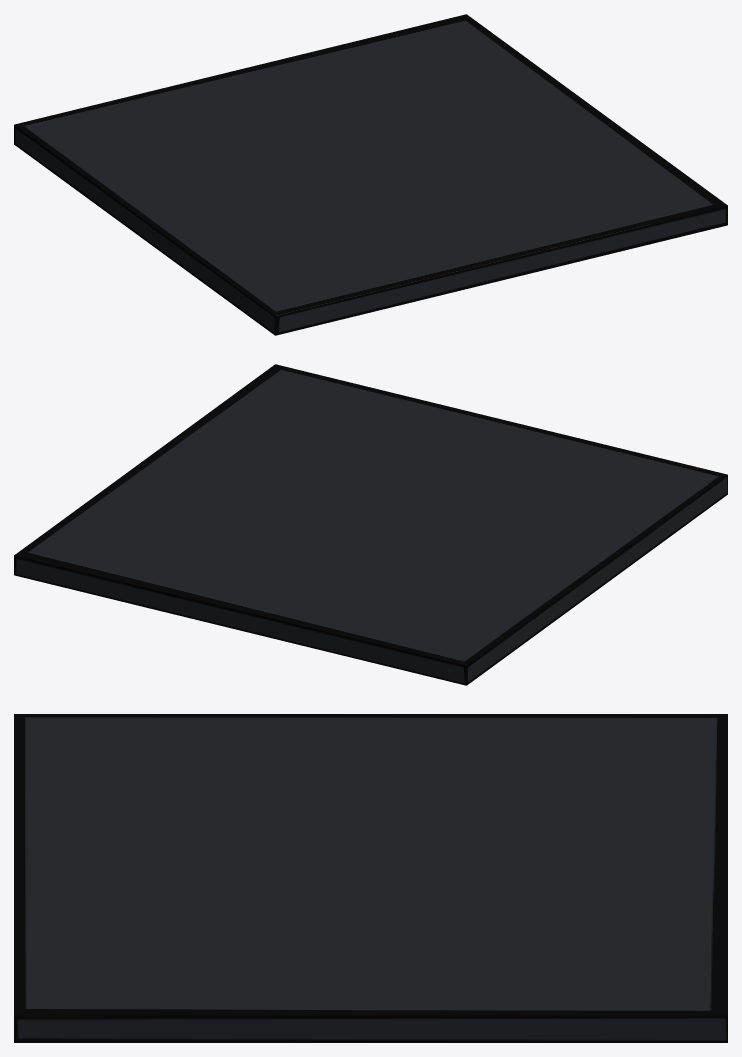
The model's file is spotlight.glb.
3 views of the same model, one above another, from view 1: azimuth 30°, elevation 25°; view 2: azimuth 150°, elevation 25°; view 3: azimuth 270°, elevation 25° (orthographic). The views are drawn at different scales.
Visible parts, largest first — view 1: Spotlight; view 2: Spotlight; view 3: Spotlight.
Part boxes in pixels (box(x1,y1,x2,y2)): Spotlight: box(14, 14, 727, 335); Spotlight: box(14, 364, 727, 685); Spotlight: box(14, 714, 727, 1042).
Bounding box in the file's own units: 0.2334 × 0.00979 × 0.2334.
1 material, 1 textured.
